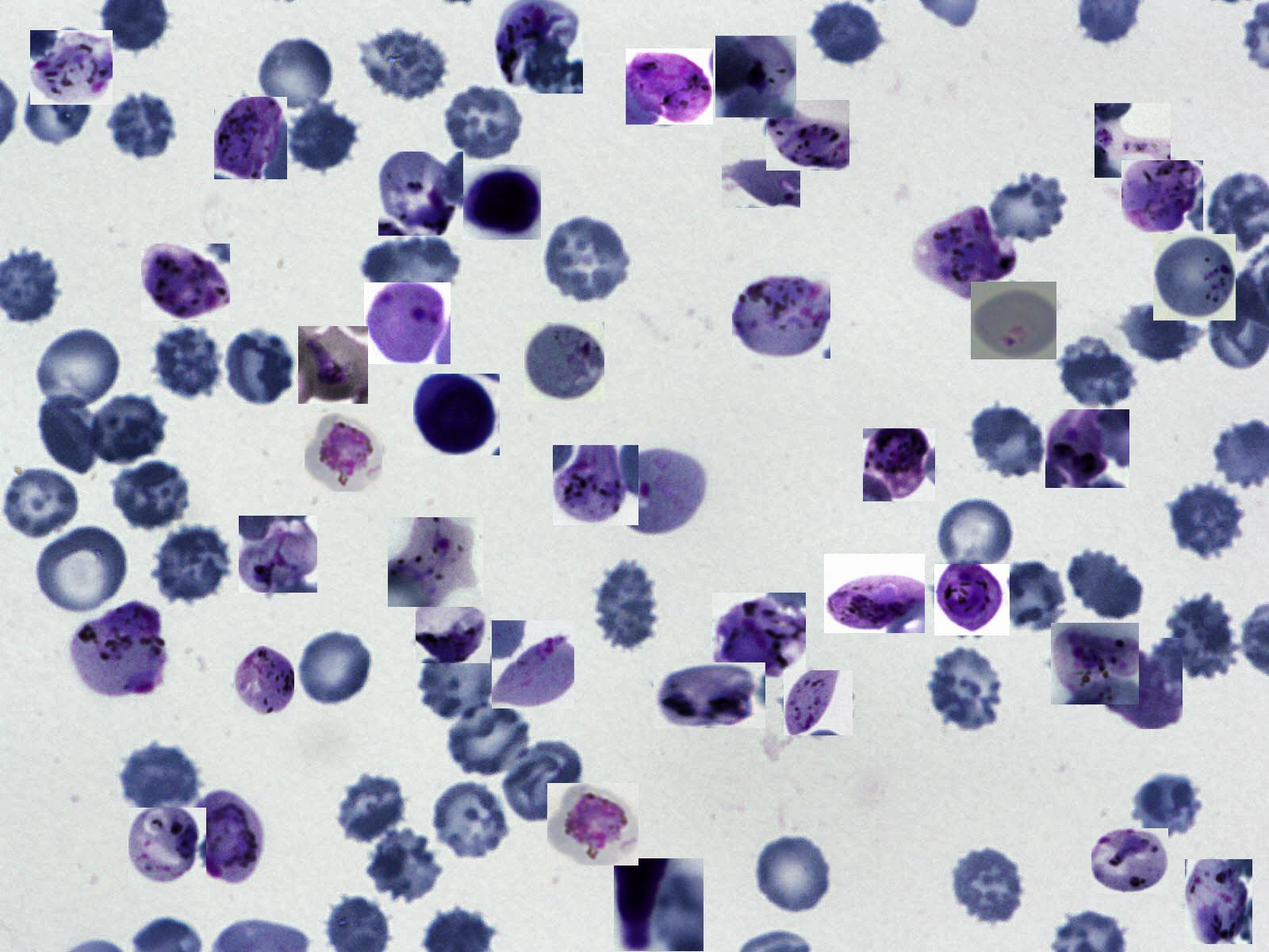Infected: (69, 600, 171, 703), (915, 203, 1014, 299), (1084, 638, 1183, 729), (732, 271, 830, 359), (388, 517, 483, 607), (614, 858, 704, 951), (494, 0, 583, 94), (712, 593, 806, 679), (620, 446, 707, 538), (824, 554, 925, 633), (547, 783, 638, 866), (654, 662, 765, 728), (492, 620, 574, 708), (378, 152, 463, 236), (1153, 235, 1236, 321), (1051, 623, 1139, 704), (364, 282, 450, 364), (413, 374, 500, 455), (141, 244, 230, 321), (553, 445, 638, 525), (626, 48, 713, 125), (1045, 409, 1129, 488), (716, 36, 797, 117), (971, 282, 1056, 359), (196, 786, 260, 885), (524, 322, 604, 401), (30, 30, 113, 105), (305, 413, 382, 492), (239, 516, 317, 593), (128, 808, 206, 885), (214, 97, 287, 179), (462, 165, 541, 240), (1121, 160, 1203, 232), (766, 100, 849, 171), (1095, 103, 1171, 178), (1185, 859, 1252, 944), (722, 136, 800, 208), (298, 326, 368, 404), (934, 564, 1010, 635), (863, 428, 935, 501), (1091, 828, 1168, 893), (416, 597, 490, 663), (784, 670, 853, 735), (234, 646, 294, 716)
Uninfected: (34, 522, 132, 616), (540, 214, 634, 305), (36, 324, 125, 413), (355, 236, 466, 305), (443, 697, 534, 778), (1165, 593, 1245, 685), (923, 646, 1007, 731), (500, 739, 584, 823), (966, 400, 1049, 483), (419, 640, 504, 721), (1055, 332, 1141, 412), (440, 82, 528, 158), (358, 27, 448, 101), (753, 834, 834, 916), (255, 34, 337, 115), (16, 69, 94, 154), (431, 779, 513, 859), (117, 740, 201, 818), (1167, 479, 1247, 560), (937, 497, 1018, 577), (0, 461, 88, 534), (593, 561, 662, 654), (151, 528, 233, 606), (362, 831, 445, 908), (950, 844, 1026, 924), (84, 390, 167, 463), (301, 626, 378, 704), (1068, 547, 1146, 624), (148, 324, 225, 401), (992, 561, 1072, 635), (223, 327, 297, 406), (33, 394, 102, 478), (333, 768, 410, 843), (1119, 299, 1201, 369), (109, 459, 189, 530), (988, 172, 1064, 244), (1129, 770, 1207, 840), (103, 90, 177, 163), (279, 103, 355, 171), (809, 1, 884, 65)
